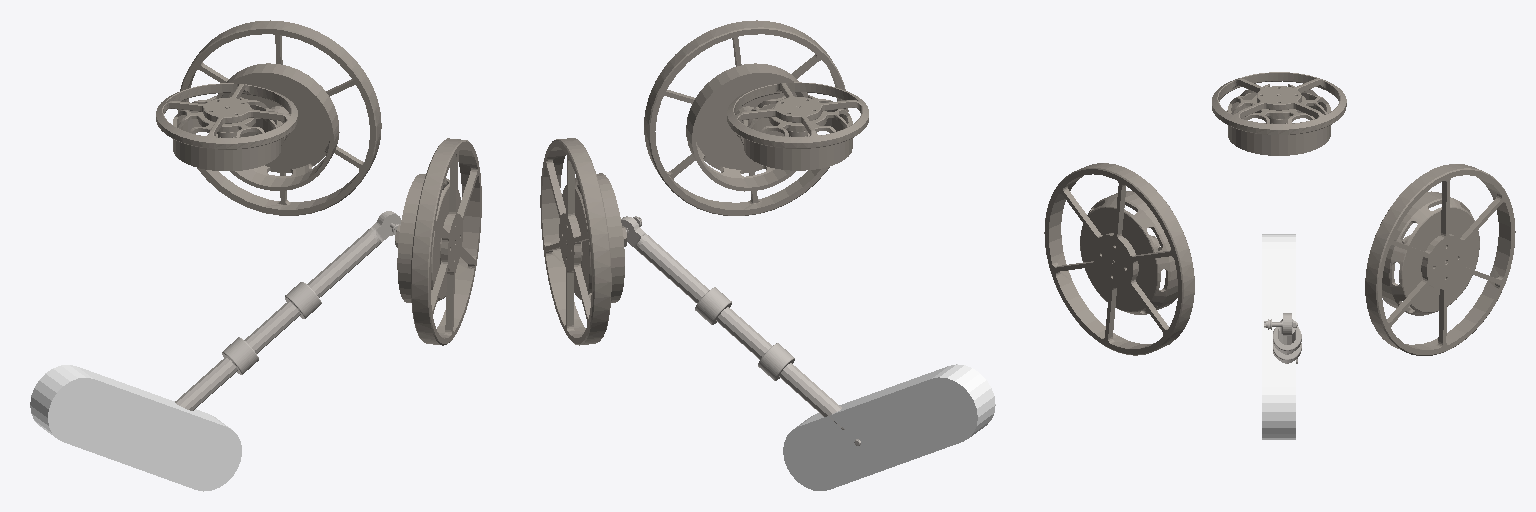
The robot description file, URDF, robot "hopper_rev05":
<?xml version="1.0" encoding="utf-8"?>
<!-- This URDF was automatically created by SolidWorks to URDF Exporter! Originally created by [author] ([email redacted]) 
     Commit Version: 1.5.1-0-g916b5db  Build Version: 1.5.7152.31018
     For more information, please see http://wiki.ros.org/sw_urdf_exporter -->
<robot
  name="hopper_rev05">
  <link
    name="base_link">
    <inertial>
      <origin
        xyz="-0.0040821970689855 0.000379301018317304 0.0170557032108192"
        rpy="0 0 0" />
      <mass
        value="5.59607837933863" />
      <inertia
        ixx="0.00377267223926865"
        ixy="-3.22269145542781E-06"
        ixz="5.32612485392243E-05"
        iyy="0.00604204097244965"
        iyz="8.35702196039236E-06"
        izz="0.00442179153407034" />
    </inertial>
    <visual>
      <origin
        xyz="0 0 0"
        rpy="0 0 0" />
      <geometry>
        <mesh
          filename="package://hopper_rev05/meshes/base_link.STL" />
      </geometry>
      <material
        name="">
        <color
          rgba="0.898039215686275 0.898039215686275 0.898039215686275 1" />
      </material>
    </visual>
    <collision>
      <origin
        xyz="0 0 0"
        rpy="0 0 0" />
      <geometry>
        <mesh
          filename="package://hopper_rev05/meshes/base_link.STL" />
      </geometry>
    </collision>
  </link>
  <link
    name="Link 0">
    <inertial>
      <origin
        xyz="0.0121851264299085 0.0180889013941849 0.00112690392742547"
        rpy="0 0 0" />
      <mass
        value="0.256385566503952" />
      <inertia
        ixx="3.84650100874964E-05"
        ixy="1.5379784060096E-05"
        ixz="-8.48318798628566E-06"
        iyy="0.00017263374747093"
        iyz="1.08260201375488E-06"
        izz="0.000148822440720501" />
    </inertial>
    <visual>
      <origin
        xyz="0 0 0"
        rpy="0 0 0" />
      <geometry>
        <mesh
          filename="package://hopper_rev05/meshes/Link 0.STL" />
      </geometry>
      <material
        name="">
        <color
          rgba="0.898039215686275 0.898039215686275 0.898039215686275 1" />
      </material>
    </visual>
    <collision>
      <origin
        xyz="0 0 0"
        rpy="0 0 0" />
      <geometry>
        <mesh
          filename="package://hopper_rev05/meshes/Link 0.STL" />
      </geometry>
    </collision>
  </link>
  <joint
    name="Joint 0"
    type="revolute">
    <origin
      xyz="0 0 0"
      rpy="0 0.5235987755983 0" />
    <parent
      link="base_link" />
    <child
      link="Link 0" />
    <axis
      xyz="0 -1 0" />
    <limit
      lower="-3.14"
      upper="3.14"
      effort="0"
      velocity="0" />
  </joint>
  <link
    name="Link 1">
    <inertial>
      <origin
        xyz="0.133101645966312 0.00652998365271682 -1.77401555945256E-09"
        rpy="0 0 0" />
      <mass
        value="0.0631473819780702" />
      <inertia
        ixx="2.55548531328563E-06"
        ixy="6.97718053328316E-12"
        ixz="-1.43600149958696E-12"
        iyy="0.000104301911822778"
        iyz="7.2290806785004E-12"
        izz="0.000104301119173831" />
    </inertial>
    <visual>
      <origin
        xyz="0 0 0"
        rpy="0 0 0" />
      <geometry>
        <mesh
          filename="package://hopper_rev05/meshes/Link 1.STL" />
      </geometry>
      <material
        name="">
        <color
          rgba="0.776470588235294 0.756862745098039 0.737254901960784 1" />
      </material>
    </visual>
    <collision>
      <origin
        xyz="0 0 0"
        rpy="0 0 0" />
      <geometry>
        <mesh
          filename="package://hopper_rev05/meshes/Link 1.STL" />
      </geometry>
    </collision>
  </link>
  <joint
    name="Joint 1"
    type="revolute">
    <origin
      xyz="0.0999999999999999 0 0"
      rpy="-3.14159265358979 1.0768315178335 -3.14159265358979" />
    <parent
      link="Link 0" />
    <child
      link="Link 1" />
    <axis
      xyz="0 -1 0" />
    <limit
      lower="-0.7597"
      upper="1.8295"
      effort="0"
      velocity="0" />
  </joint>
  <link
    name="Link 2">
    <inertial>
      <origin
        xyz="0.0389032293637952 -0.0169313660252965 -0.000627148519961443"
        rpy="0 0 0" />
      <mass
        value="0.288845046277886" />
      <inertia
        ixx="3.46488303623413E-05"
        ixy="-3.25958928897371E-07"
        ixz="5.24928685528962E-06"
        iyy="0.000245584747760095"
        iyz="3.01080375580465E-08"
        izz="0.000226676363063251" />
    </inertial>
    <visual>
      <origin
        xyz="0 0 0"
        rpy="0 0 0" />
      <geometry>
        <mesh
          filename="package://hopper_rev05/meshes/Link 2.STL" />
      </geometry>
      <material
        name="">
        <color
          rgba="0.898039215686275 0.898039215686275 0.898039215686275 1" />
      </material>
    </visual>
    <collision>
      <origin
        xyz="0 0 0"
        rpy="0 0 0" />
      <geometry>
        <mesh
          filename="package://hopper_rev05/meshes/Link 2.STL" />
      </geometry>
    </collision>
  </link>
  <joint
    name="Joint 2"
    type="revolute">
    <origin
      xyz="0 0 0"
      rpy="3.14159265358979 0.553232742319403 -3.14159265358979" />
    <parent
      link="base_link" />
    <child
      link="Link 2" />
    <axis
      xyz="0 -1 0" />
    <limit
      lower="-3.14"
      upper="3.14"
      effort="0"
      velocity="0" />
  </joint>
  <link
    name="Link 3">
    <inertial>
      <origin
        xyz="0.10143817132357 -0.00251001068107951 -0.0148532860322689"
        rpy="0 0 0" />
      <mass
        value="0.12485760282637" />
      <inertia
        ixx="1.60742534228895E-05"
        ixy="-5.54606266030352E-07"
        ixz="1.00368247557172E-06"
        iyy="0.000116506434688955"
        iyz="1.0713044107916E-07"
        izz="0.000112946754183162" />
    </inertial>
    <visual>
      <origin
        xyz="0 0 0"
        rpy="0 0 0" />
      <geometry>
        <mesh
          filename="package://hopper_rev05/meshes/Link 3.STL" />
      </geometry>
      <material
        name="">
        <color
          rgba="1 1 1 1" />
      </material>
    </visual>
    <collision>
      <origin
        xyz="0 0 0"
        rpy="0 0 0" />
      <geometry>
        <mesh
          filename="package://hopper_rev05/meshes/Link 3.STL" />
      </geometry>
    </collision>
  </link>
  <joint
    name="Joint 3"
    type="revolute">
    <origin
      xyz="0.270000000042219 0 0"
      rpy="-3.14159265358979 -1.07683151743819 3.14159265358979" />
    <parent
      link="Link 2" />
    <child
      link="Link 3" />
    <axis
      xyz="0 -1 0" />
    <limit
      lower="-1.8295"
      upper="0.7597"
      effort="0"
      velocity="0" />
  </joint>
  <link
    name="rw0">
    <inertial>
      <origin
        xyz="-0.010686749946452 -7.59774469033525E-09 2.70423106737278E-09"
        rpy="0 0 0" />
      <mass
        value="0.715641175075329" />
      <inertia
        ixx="0.00312227321188978"
        ixy="-1.82792593995257E-12"
        ixz="1.21113744575886E-11"
        iyy="0.00158570696597519"
        iyz="7.43838571199042E-09"
        izz="0.00158570710797415" />
    </inertial>
    <visual>
      <origin
        xyz="0 0 0"
        rpy="0 0 0" />
      <geometry>
        <mesh
          filename="package://hopper_rev05/meshes/rw0.STL" />
      </geometry>
      <material
        name="">
        <color
          rgba="0.647058823529412 0.619607843137255 0.588235294117647 1" />
      </material>
    </visual>
    <collision>
      <origin
        xyz="0 0 0"
        rpy="0 0 0" />
      <geometry>
        <mesh
          filename="package://hopper_rev05/meshes/rw0.STL" />
      </geometry>
    </collision>
  </link>
  <joint
    name="joint_rw0"
    type="continuous">
    <origin
      xyz="0.0620132647100599 -0.147253675939521 0"
      rpy="3.03065856040946 0 -0.785398163397452" />
    <parent
      link="base_link" />
    <child
      link="rw0" />
    <axis
      xyz="1 0 0" />
  </joint>
  <link
    name="rw1">
    <inertial>
      <origin
        xyz="-0.0106867499464566 7.59774405195701E-09 -2.70422928234232E-09"
        rpy="0 0 0" />
      <mass
        value="0.715641175076257" />
      <inertia
        ixx="0.00312227321188979"
        ixy="1.82792669889409E-12"
        ixz="-1.21113744474242E-11"
        iyy="0.00158570696597532"
        iyz="7.43838570592397E-09"
        izz="0.00158570710797428" />
    </inertial>
    <visual>
      <origin
        xyz="0 0 0"
        rpy="0 0 0" />
      <geometry>
        <mesh
          filename="package://hopper_rev05/meshes/rw1.STL" />
      </geometry>
      <material
        name="">
        <color
          rgba="0.647058823529412 0.619607843137255 0.588235294117647 1" />
      </material>
    </visual>
    <collision>
      <origin
        xyz="0 0 0"
        rpy="0 0 0" />
      <geometry>
        <mesh
          filename="package://hopper_rev05/meshes/rw1.STL" />
      </geometry>
    </collision>
  </link>
  <joint
    name="joint_rw1"
    type="continuous">
    <origin
      xyz="0.063525686232125 0.148766097461586 0"
      rpy="-0.0304329711040608 0 0.785398163397453" />
    <parent
      link="base_link" />
    <child
      link="rw1" />
    <axis
      xyz="-1 0 0" />
  </joint>
  <link
    name="rwz">
    <inertial>
      <origin
        xyz="9.05342951995625E-09 -3.16383599874293E-10 -0.0146079871766005"
        rpy="0 0 0" />
      <mass
        value="0.377854494953541" />
      <inertia
        ixx="0.000300958121757203"
        ixy="-4.23471727248239E-12"
        ixz="-6.67153441322859E-12"
        iyy="0.000300957997312782"
        iyz="9.55842377314367E-14"
        izz="0.000578115934214613" />
    </inertial>
    <visual>
      <origin
        xyz="0 0 0"
        rpy="0 0 0" />
      <geometry>
        <mesh
          filename="package://hopper_rev05/meshes/rwz.STL" />
      </geometry>
      <material
        name="">
        <color
          rgba="0.647058823529412 0.619607843137255 0.588235294117647 1" />
      </material>
    </visual>
    <collision>
      <origin
        xyz="0 0 0"
        rpy="0 0 0" />
      <geometry>
        <mesh
          filename="package://hopper_rev05/meshes/rwz.STL" />
      </geometry>
    </collision>
  </link>
  <joint
    name="joint_rwz"
    type="continuous">
    <origin
      xyz="-0.076 0 0.0991000000000001"
      rpy="0 0 -2.35619449019233" />
    <parent
      link="base_link" />
    <child
      link="rwz" />
    <axis
      xyz="0 0 1" />
  </joint>
</robot>

--- Render facts (derived) ---
Views: 3 orthographic renders of the robot side by side, from view 1: azimuth 30°, elevation 25°; view 2: azimuth 150°, elevation 25°; view 3: azimuth 270°, elevation 25°.
Robot: hopper_rev05 — 8 links, 7 joints (4 revolute, 3 continuous); root link base_link; default pose: all joints at 0.
Links seen in each view (by area): view 1: Link 3, rw1, rw0, rwz, Link 1; view 2: Link 3, rw0, rw1, rwz, Link 1; view 3: rw0, rw1, rwz, Link 3, Link 1.
Boxes of the visible links, x1,y1,x2,y2 form: Link 3: [30, 365, 241, 491]; rw1: [177, 20, 381, 215]; rw0: [395, 138, 481, 345]; rwz: [156, 83, 297, 170]; Link 1: [175, 211, 400, 410]; Link 3: [783, 364, 995, 490]; rw0: [644, 20, 848, 215]; rw1: [540, 138, 626, 345]; rwz: [727, 82, 868, 170]; Link 1: [621, 216, 860, 445]; rw0: [1044, 163, 1194, 355]; rw1: [1365, 164, 1515, 355]; rwz: [1212, 72, 1346, 155]; Link 3: [1262, 234, 1295, 439]; Link 1: [1264, 313, 1301, 363].
Size in the robot's own frame: 0.3844 by 0.4183 by 0.346 metres.
5 mesh visuals loaded from 8 distinct referenced files (5 binary STL); not drawn: 3 (reference not matched to a file when rendering).
